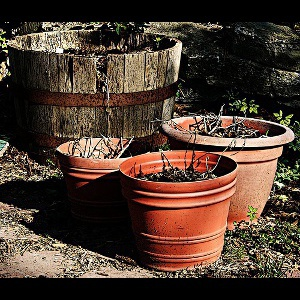flowerpot: (9, 29, 182, 167), (161, 113, 294, 231), (119, 150, 238, 272), (57, 137, 151, 232)
